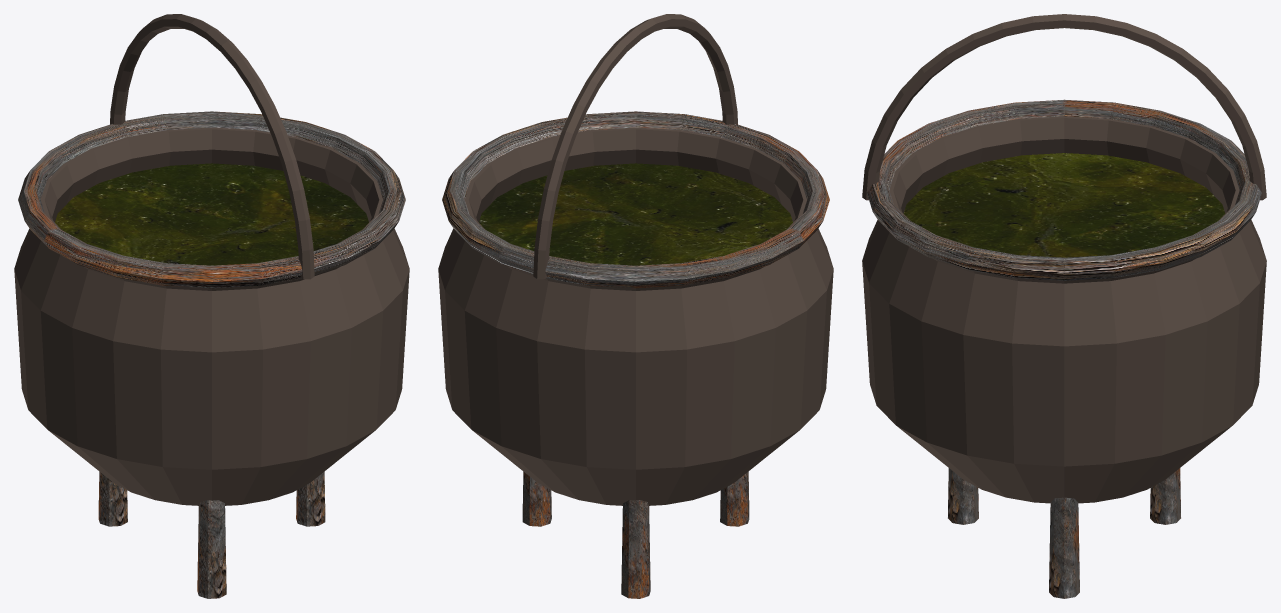
File: cauldron-v01.glb
3 renders of one model, left to right at view 1: azimuth 30°, elevation 25°; view 2: azimuth 150°, elevation 25°; view 3: azimuth 270°, elevation 25°, orthographic. The views are drawn at different scales.
Visible parts, largest first — view 1: cauldron; view 2: cauldron; view 3: cauldron.
Part boxes in pixels (x1,y1,x2,y2): cauldron: [14, 14, 409, 598]; cauldron: [438, 14, 833, 598]; cauldron: [862, 14, 1266, 598].
Size of the model in its own units: 1.04 by 1.5 by 1.04.
Materials: 2 (2 with a texture image).
